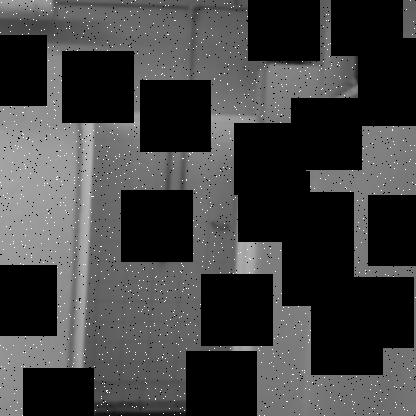Porte: (69, 117, 261, 415)
